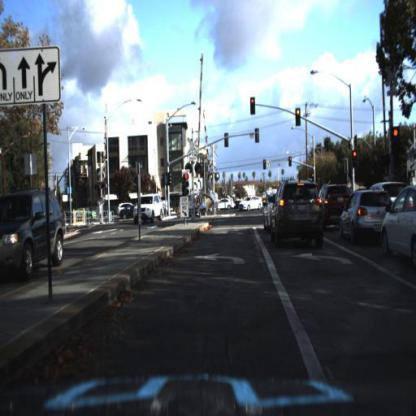car: (2, 191, 66, 281), (272, 181, 327, 251), (336, 191, 392, 246), (381, 183, 416, 264), (341, 183, 381, 247), (316, 186, 351, 230), (133, 189, 163, 231), (133, 192, 165, 223), (323, 182, 342, 228), (188, 198, 211, 221), (212, 195, 236, 215), (240, 194, 265, 213), (215, 193, 237, 213), (189, 203, 209, 224), (263, 191, 272, 233)
pedestrian: (411, 197, 416, 230)
trafficLight-Red: (182, 170, 192, 199), (262, 155, 270, 176), (352, 150, 360, 171), (297, 108, 305, 128), (184, 168, 191, 189), (296, 107, 304, 124), (250, 96, 257, 113), (352, 149, 359, 166), (262, 157, 269, 173), (287, 150, 293, 166), (288, 153, 294, 169), (312, 171, 316, 183)
trafficLight-RedLeft: (251, 96, 257, 114)
